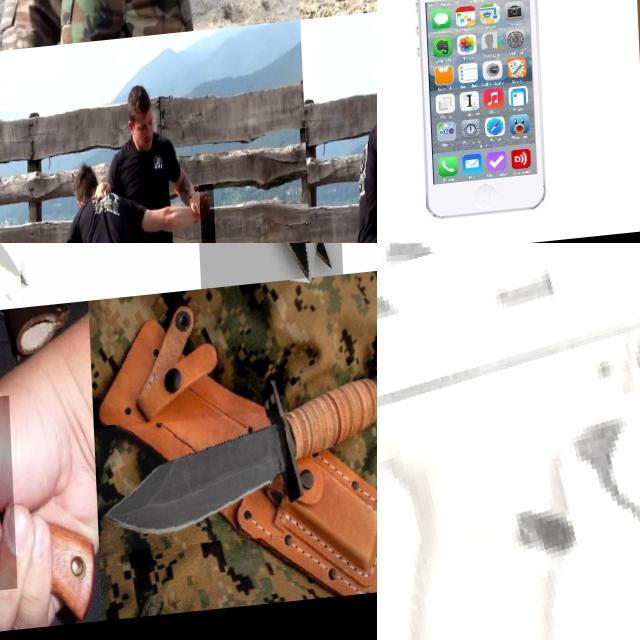-: (92, 421, 284, 561), (0, 400, 121, 612), (191, 243, 340, 350), (0, 243, 73, 349), (110, 0, 192, 30), (194, 188, 210, 243)
gun-knife-thesis - v11 Yolov5 augmented: (377, 243, 640, 640)
